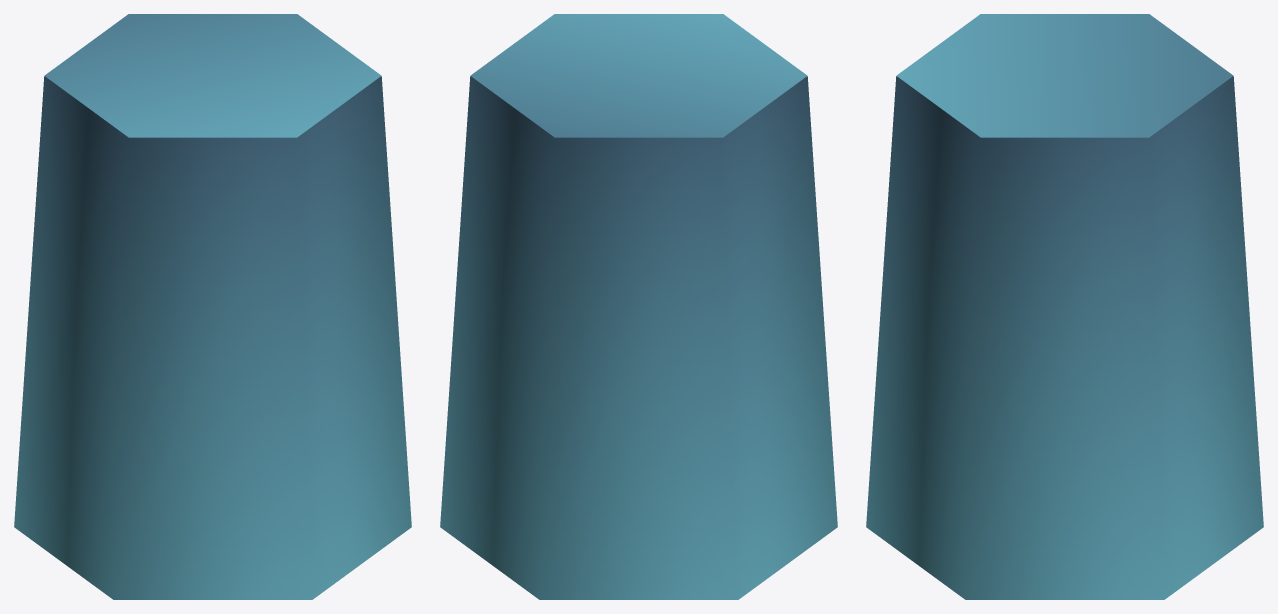
The model's file is tumbler-col.glb.
3 renders of one model, left to right at view 1: azimuth 30°, elevation 25°; view 2: azimuth 150°, elevation 25°; view 3: azimuth 270°, elevation 25°, orthographic.
Parts seen in each view (by area): view 1: tumbler-col; view 2: tumbler-col; view 3: tumbler-col.
Boxes of the visible parts, x1,y1,x2,y2 form: tumbler-col: (14, 14, 411, 599); tumbler-col: (440, 14, 837, 599); tumbler-col: (866, 14, 1263, 599).
Size of the model in its own units: 1.73 by 2.5 by 2.
Materials: 1 (1 with a texture image).
